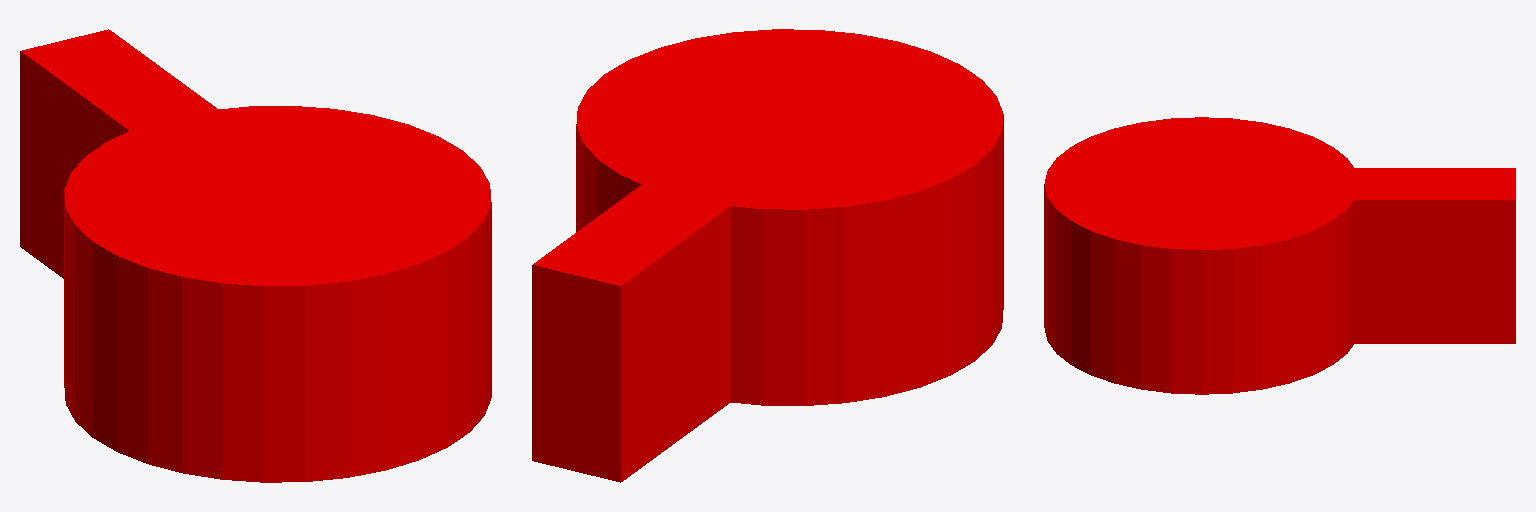
URDF robot description (circle-gripper):
<?xml version="1.0"?>
<robot name="circle-gripper">

  <link name="base_link">
    <visual>
      <geometry>
        <mesh filename="package://asset/real-world/circle-gripper/circle-gripper.obj" scale="1 1 1"/>
      </geometry>
      <material name="color">
        <color rgba="1 0 0 1"/> <!-- Red. a: transparency. -->
      </material>
    </visual>
    <collision>
      <geometry>
        <mesh filename="package://asset/real-world/circle-gripper/circle-gripper.obj" scale="1 1 1"/>
      </geometry>
    </collision>
    <inertial>
      <mass value="10"/> 
      <origin xyz="0 0 0"/> 
      <inertia ixx="1" iyy="1" izz="1"/> 
    </inertial>

  </link>

</robot>

--- Facts derived from the render (not from the file) ---
Views: 3 orthographic renders of the robot side by side, from view 1: azimuth 30°, elevation 25°; view 2: azimuth 150°, elevation 25°; view 3: azimuth 270°, elevation 25°.
Model circle-gripper with 1 links and 0 joints (none), rooted at base_link, posed every joint at zero.
Links seen in each view (by area): view 1: base_link; view 2: base_link; view 3: base_link.
Boxes of the visible links, x1,y1,x2,y2 form: base_link: (20, 29, 491, 482); base_link: (532, 29, 1003, 482); base_link: (1044, 117, 1515, 394).
Size in the robot's own frame: 0.5926 by 0.8864 by 0.3 metres.
1 mesh visuals loaded from 1 distinct referenced files (1 OBJ).